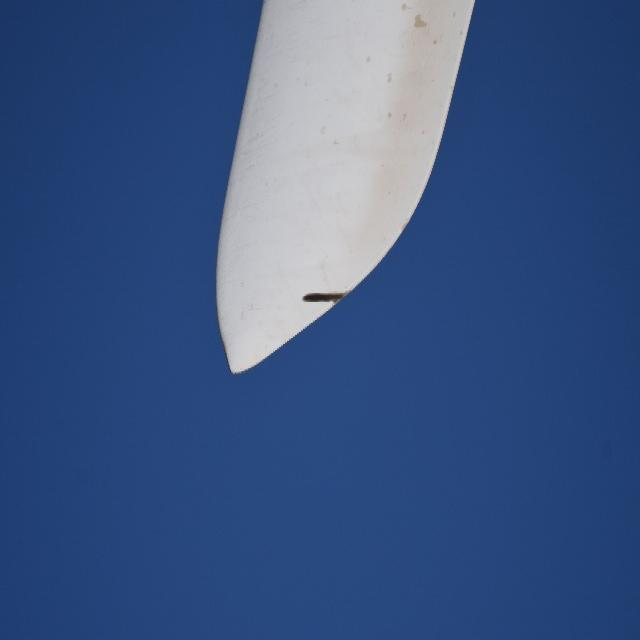Burn Mark: (302, 288, 347, 305)
